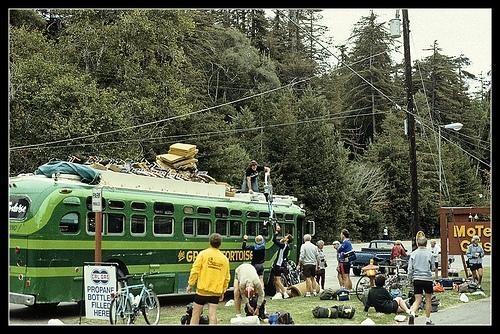bicycle: (111, 270, 162, 326), (356, 273, 398, 303), (264, 174, 280, 235), (147, 162, 174, 180), (142, 158, 164, 178), (170, 166, 192, 182), (185, 169, 210, 183), (390, 257, 409, 273), (364, 273, 382, 288), (115, 159, 130, 172), (198, 175, 218, 184), (108, 159, 112, 164)
bus: (8, 169, 316, 309)
truck: (352, 241, 396, 266)
